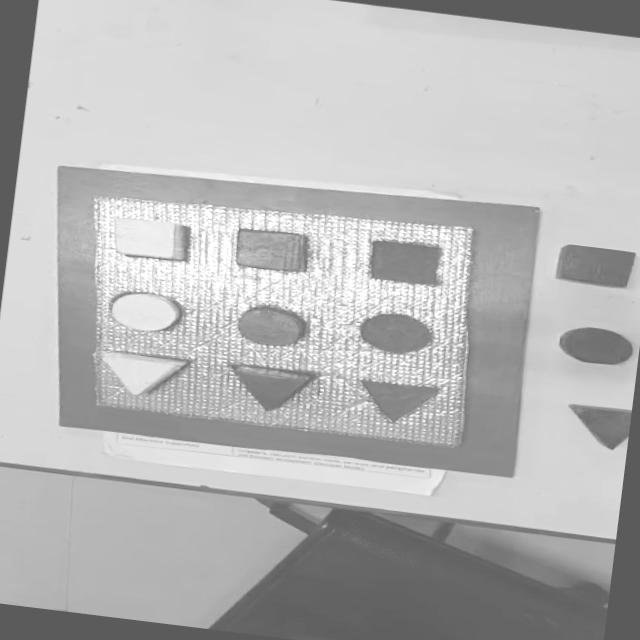bcircle: (556, 322, 636, 369)
bcube: (553, 242, 638, 291)
btriangle: (562, 402, 630, 452)
mtcircle: (354, 308, 434, 357)
mtcube: (365, 236, 447, 288)
mttriangle: (353, 375, 443, 428)
rcircle: (234, 303, 306, 349)
rcube: (230, 226, 310, 274)
rtriangle: (222, 362, 316, 416)
wb: (68, 184, 488, 450)
ycircle: (106, 287, 184, 336)
ycube: (108, 214, 186, 262)
ytriangle: (94, 348, 188, 402)
